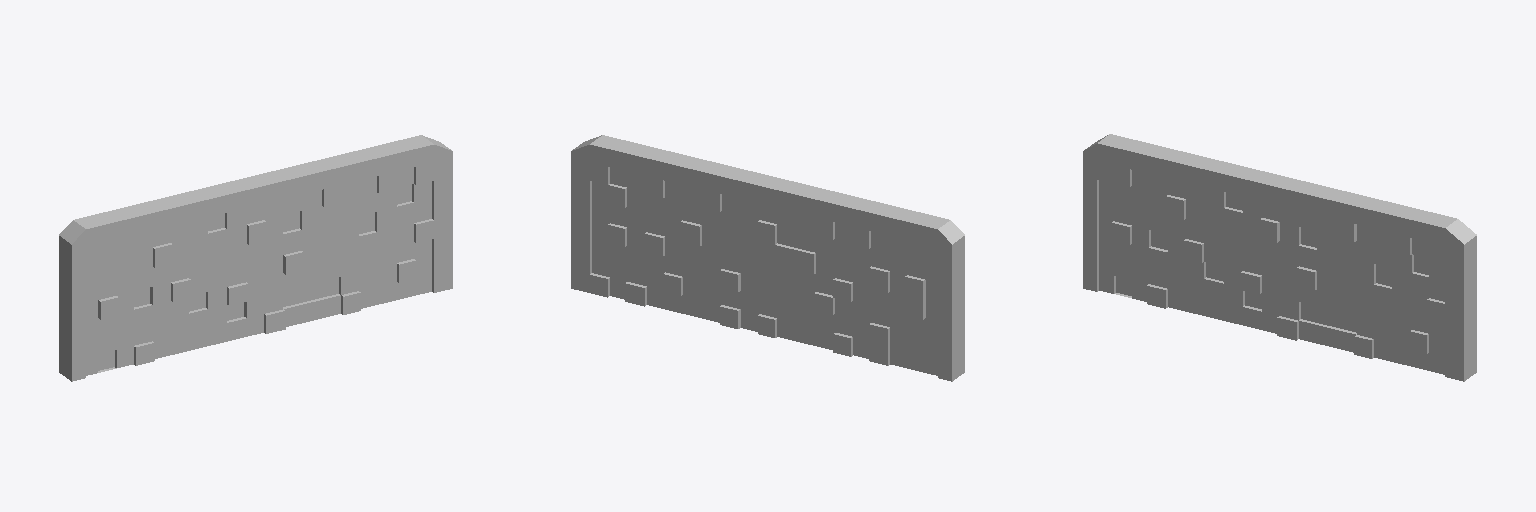
The model's file is wall big.obj.
3 views of the same model, side by side, from view 1: azimuth 30°, elevation 25°; view 2: azimuth 150°, elevation 25°; view 3: azimuth 330°, elevation 25° (orthographic).
Parts seen in each view (by area): view 1: cube; view 2: cube; view 3: cube.
Boxes of the visible parts, x1=… form: cube: x1=59, y1=135, x2=452, y2=381; cube: x1=571, y1=135, x2=964, y2=381; cube: x1=1083, y1=134, x2=1476, y2=381.
Size of the model in its own units: 6.38 by 2.38 by 0.375.